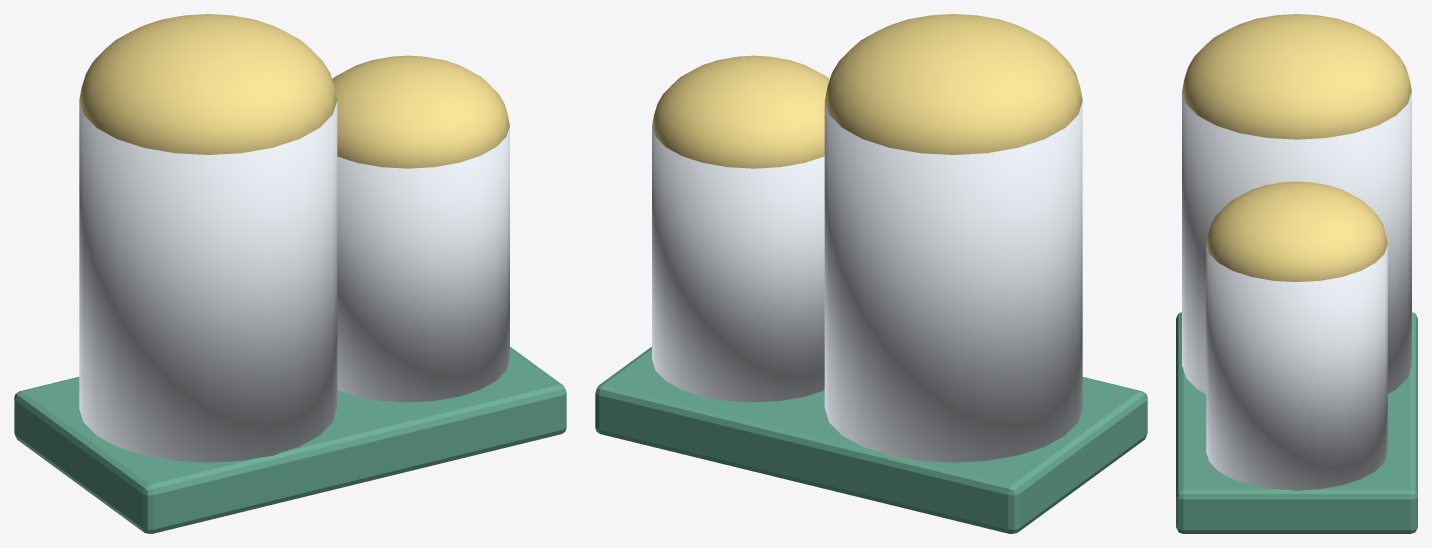
The model's file is prop_companhia.glb.
3 renders of one model, left to right at view 1: azimuth 30°, elevation 25°; view 2: azimuth 150°, elevation 25°; view 3: azimuth 270°, elevation 25°, orthographic. The views are drawn at different scales.
Visible parts, largest first — view 1: SiloMain, SiloAux, CompPad, DomeMain, DomeAux; view 2: SiloMain, SiloAux, CompPad, DomeMain, DomeAux; view 3: SiloAux, SiloMain, DomeMain, CompPad, DomeAux.
Part boxes in pixels (box(x1,y1,x2,y2)): SiloMain: box(79, 101, 337, 462); SiloAux: box(337, 126, 509, 402); CompPad: box(14, 346, 566, 533); DomeMain: box(79, 14, 336, 154); DomeAux: box(332, 55, 509, 168); SiloMain: box(824, 101, 1082, 462); SiloAux: box(652, 126, 824, 402); CompPad: box(595, 346, 1147, 533); DomeMain: box(825, 14, 1082, 154); DomeAux: box(652, 55, 829, 168); SiloAux: box(1206, 244, 1387, 490); SiloMain: box(1182, 91, 1411, 393); DomeMain: box(1182, 14, 1411, 139); CompPad: box(1176, 312, 1417, 533); DomeAux: box(1206, 181, 1387, 281).
Size of the model in its own units: 0.36 by 0.345 by 0.2.
